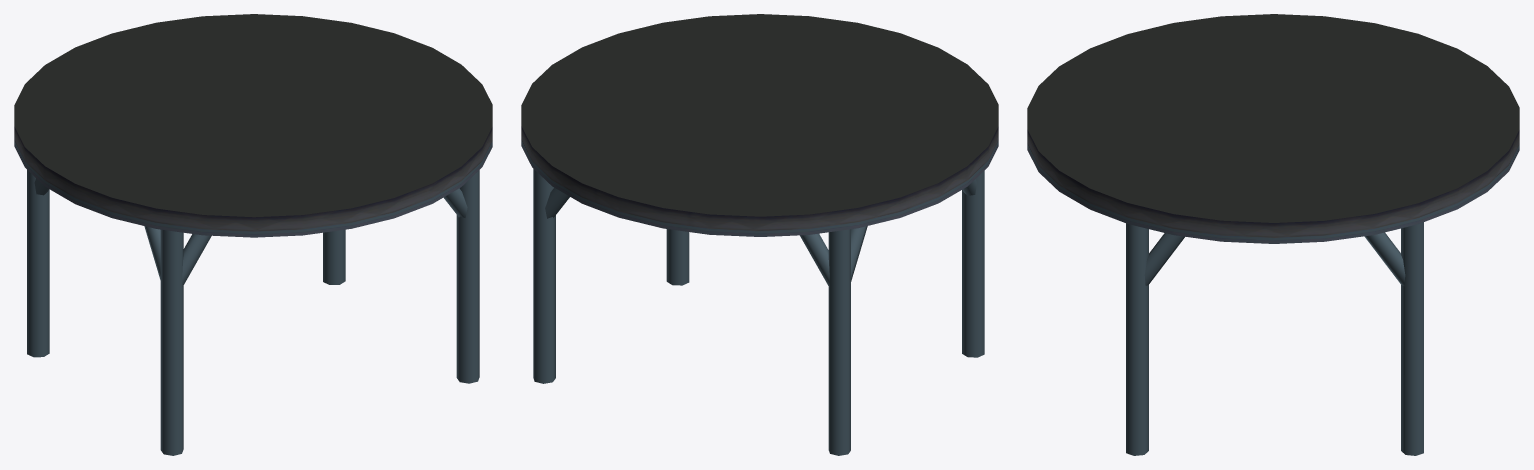
File: mdlCLMetalTable.fbx
The picture shows the model from 3 angles, left to right: view 1: azimuth 30°, elevation 25°; view 2: azimuth 150°, elevation 25°; view 3: azimuth 270°, elevation 25°; orthographic projection. The views are drawn at different scales.
Visible parts, largest first — view 1: BarTable; view 2: BarTable; view 3: BarTable.
Boxes of the visible parts, bbox=[...] form: BarTable: bbox=[14, 14, 492, 455]; BarTable: bbox=[521, 14, 998, 455]; BarTable: bbox=[1027, 14, 1519, 455].
Size of the model in its own units: 332 by 191 by 330.
